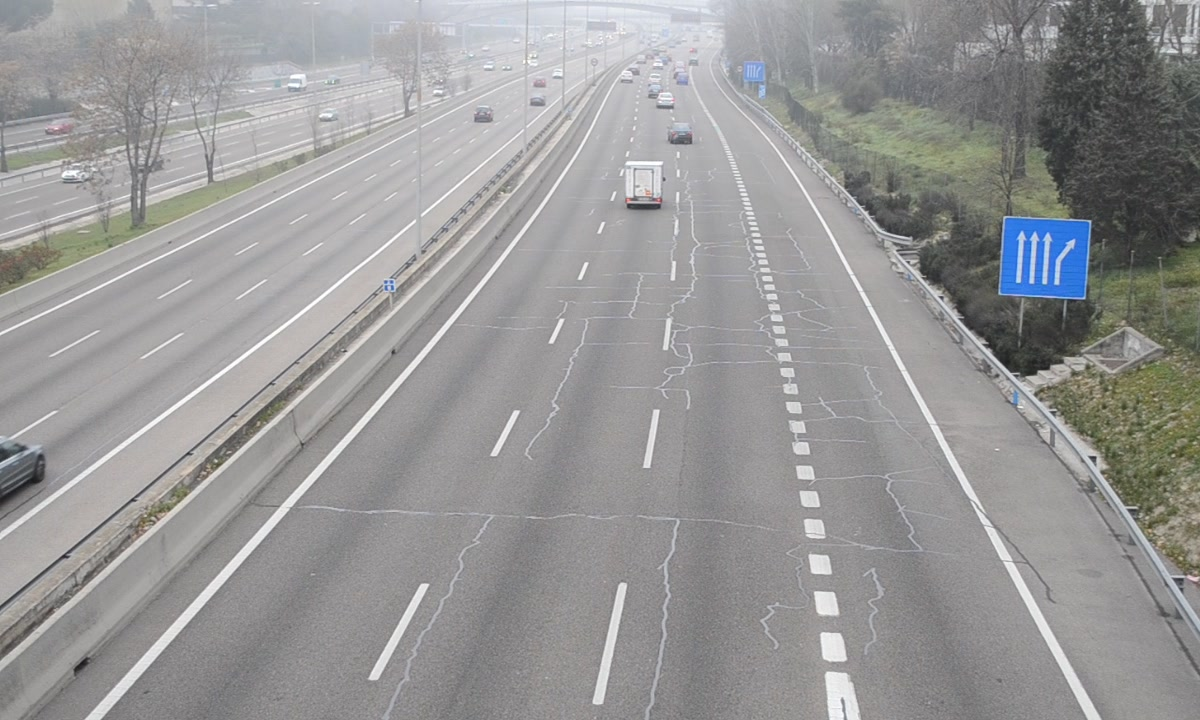car: (669, 121, 693, 145)
small-truck: (623, 161, 665, 205)
